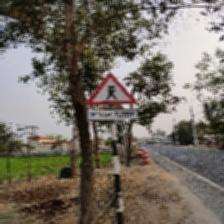Market-in-front: (87, 72, 137, 105)
